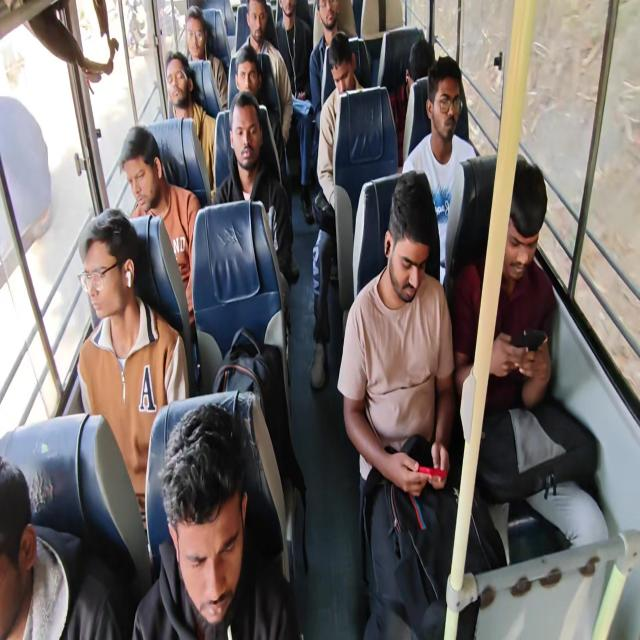person: (336, 169, 507, 638), (451, 158, 609, 554), (132, 402, 302, 639), (76, 208, 189, 550), (0, 455, 121, 639), (310, 32, 364, 390), (402, 54, 479, 284), (118, 124, 201, 332), (212, 90, 298, 285), (0, 0, 118, 81), (274, 0, 315, 225), (234, 0, 292, 146), (164, 50, 216, 191), (0, 455, 37, 638), (308, 0, 358, 134), (390, 38, 435, 164), (183, 4, 228, 111), (275, 0, 313, 101)
